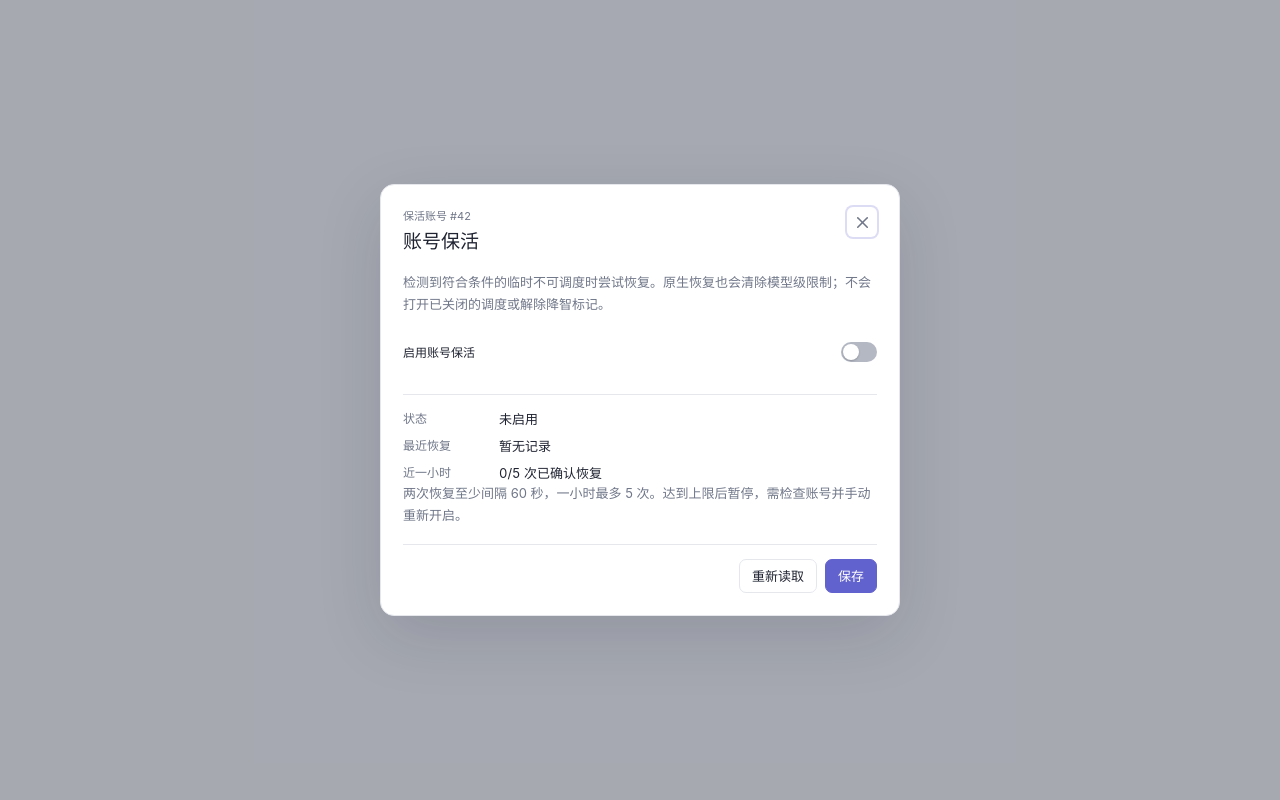
Test: account keepalive › updates the live status during polling without replacing an edited toggle
Click the checkbox labelled "启用账号保活" at (859, 352), box [841,342,877,362]
Wait 2000 ms
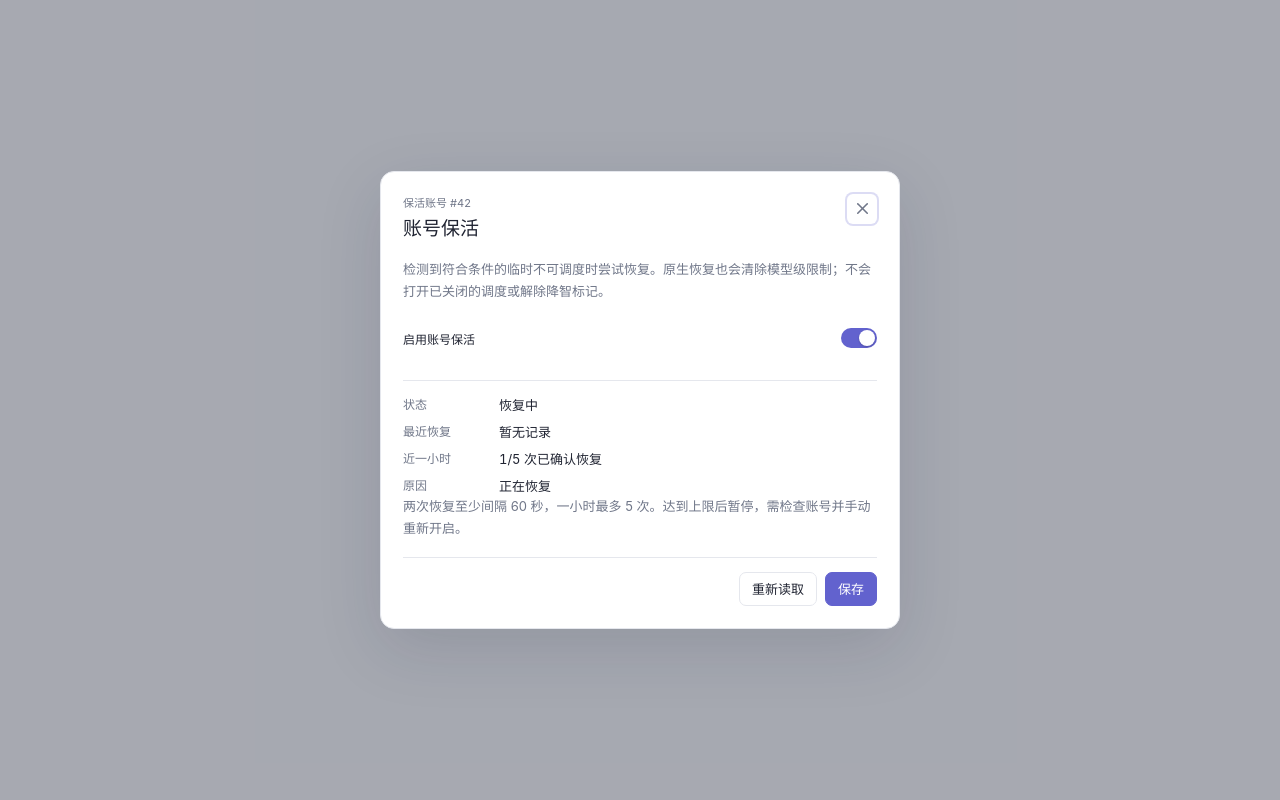
Now the checkbox labelled "启用账号保活" is checked, box [841,328,877,348]
Now the text "恢复中" is shown, box [499,397,538,413]
Now the text "正在恢复" is shown, box [499,478,551,494]
